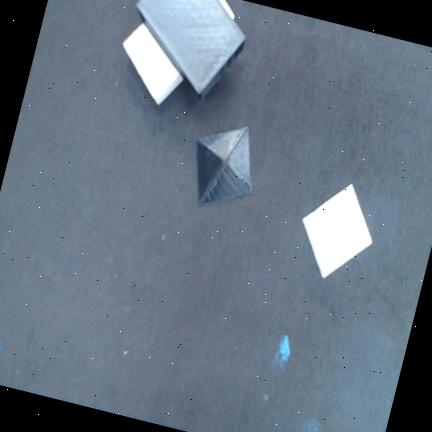Paralelepipedo: (120, 0, 235, 106), (133, 0, 246, 97)
Piramide: (302, 183, 372, 277), (197, 126, 252, 204)
